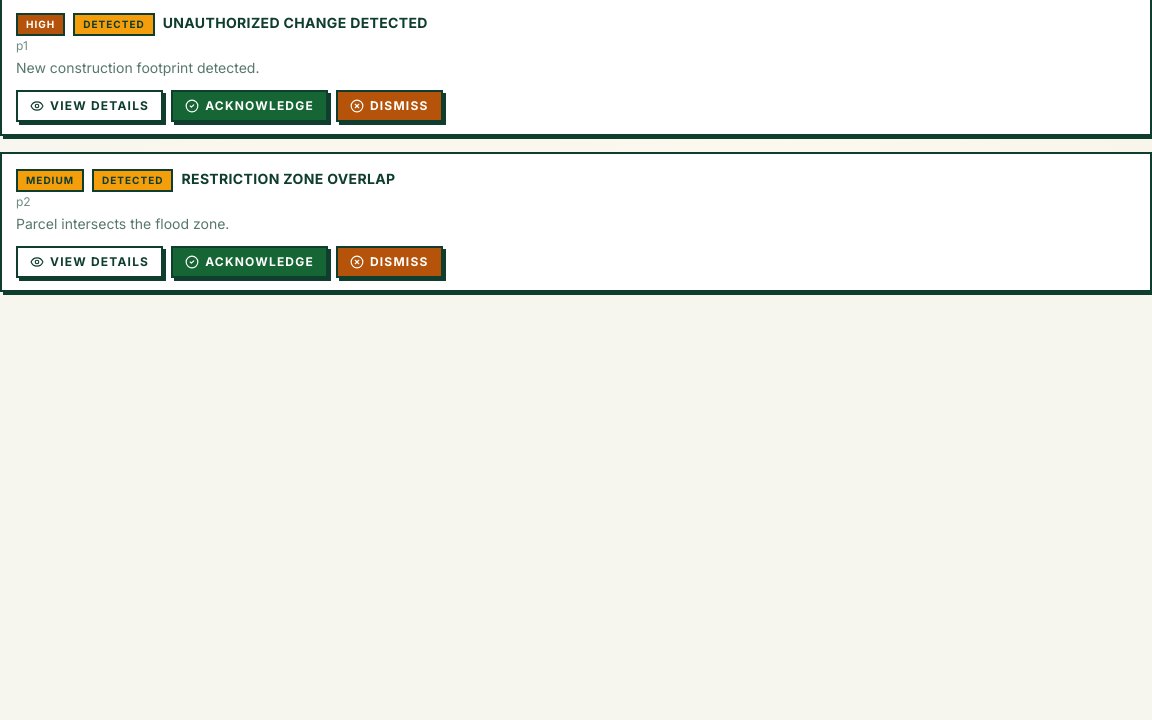
Test: GovernanceAlertsPanel › clicking Dismiss on a row opens a reason popup instead of submitting immediately
The width and height of the screenshot is (1152, 720).
Expected: the text "UNAUTHORIZED CHANGE DETECTED" is shown, left=163, top=14, right=428, bottom=31
Click the button "Dismiss" below "New construction footprint detected." at (389, 106), box left=336, top=90, right=442, bottom=122
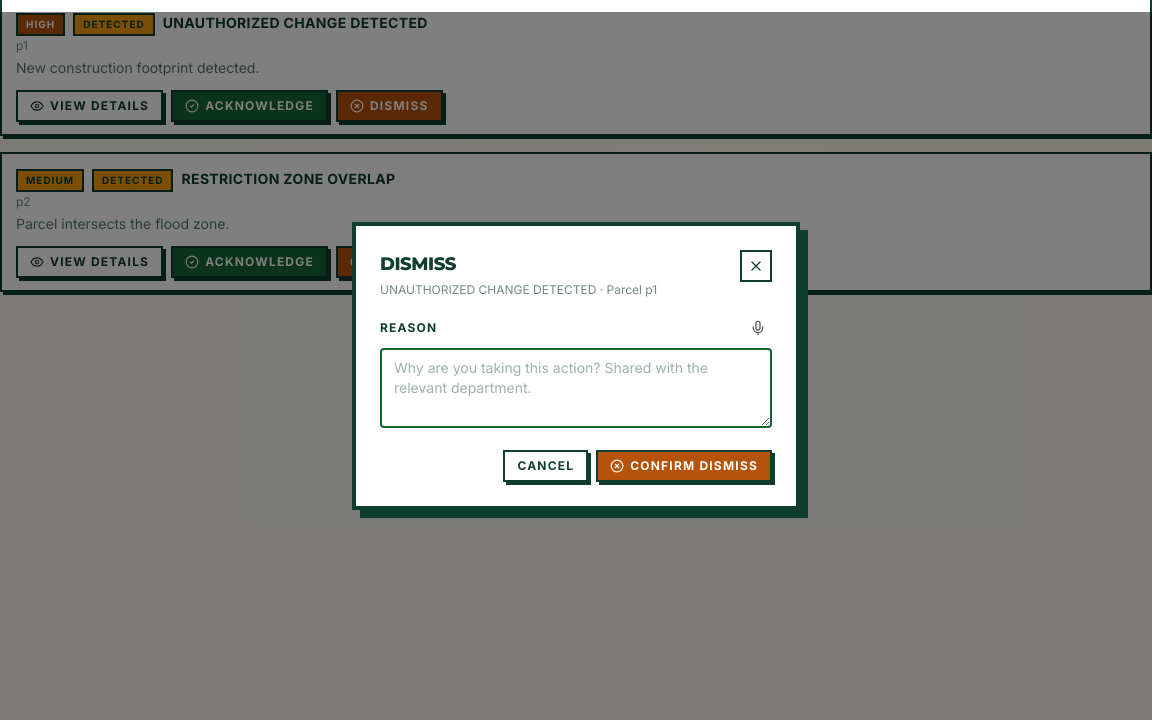
Expected: the heading "Dismiss" is shown, left=380, top=253, right=456, bottom=275
Expected: the text box labelled "Reason" is shown, left=380, top=348, right=772, bottom=428
